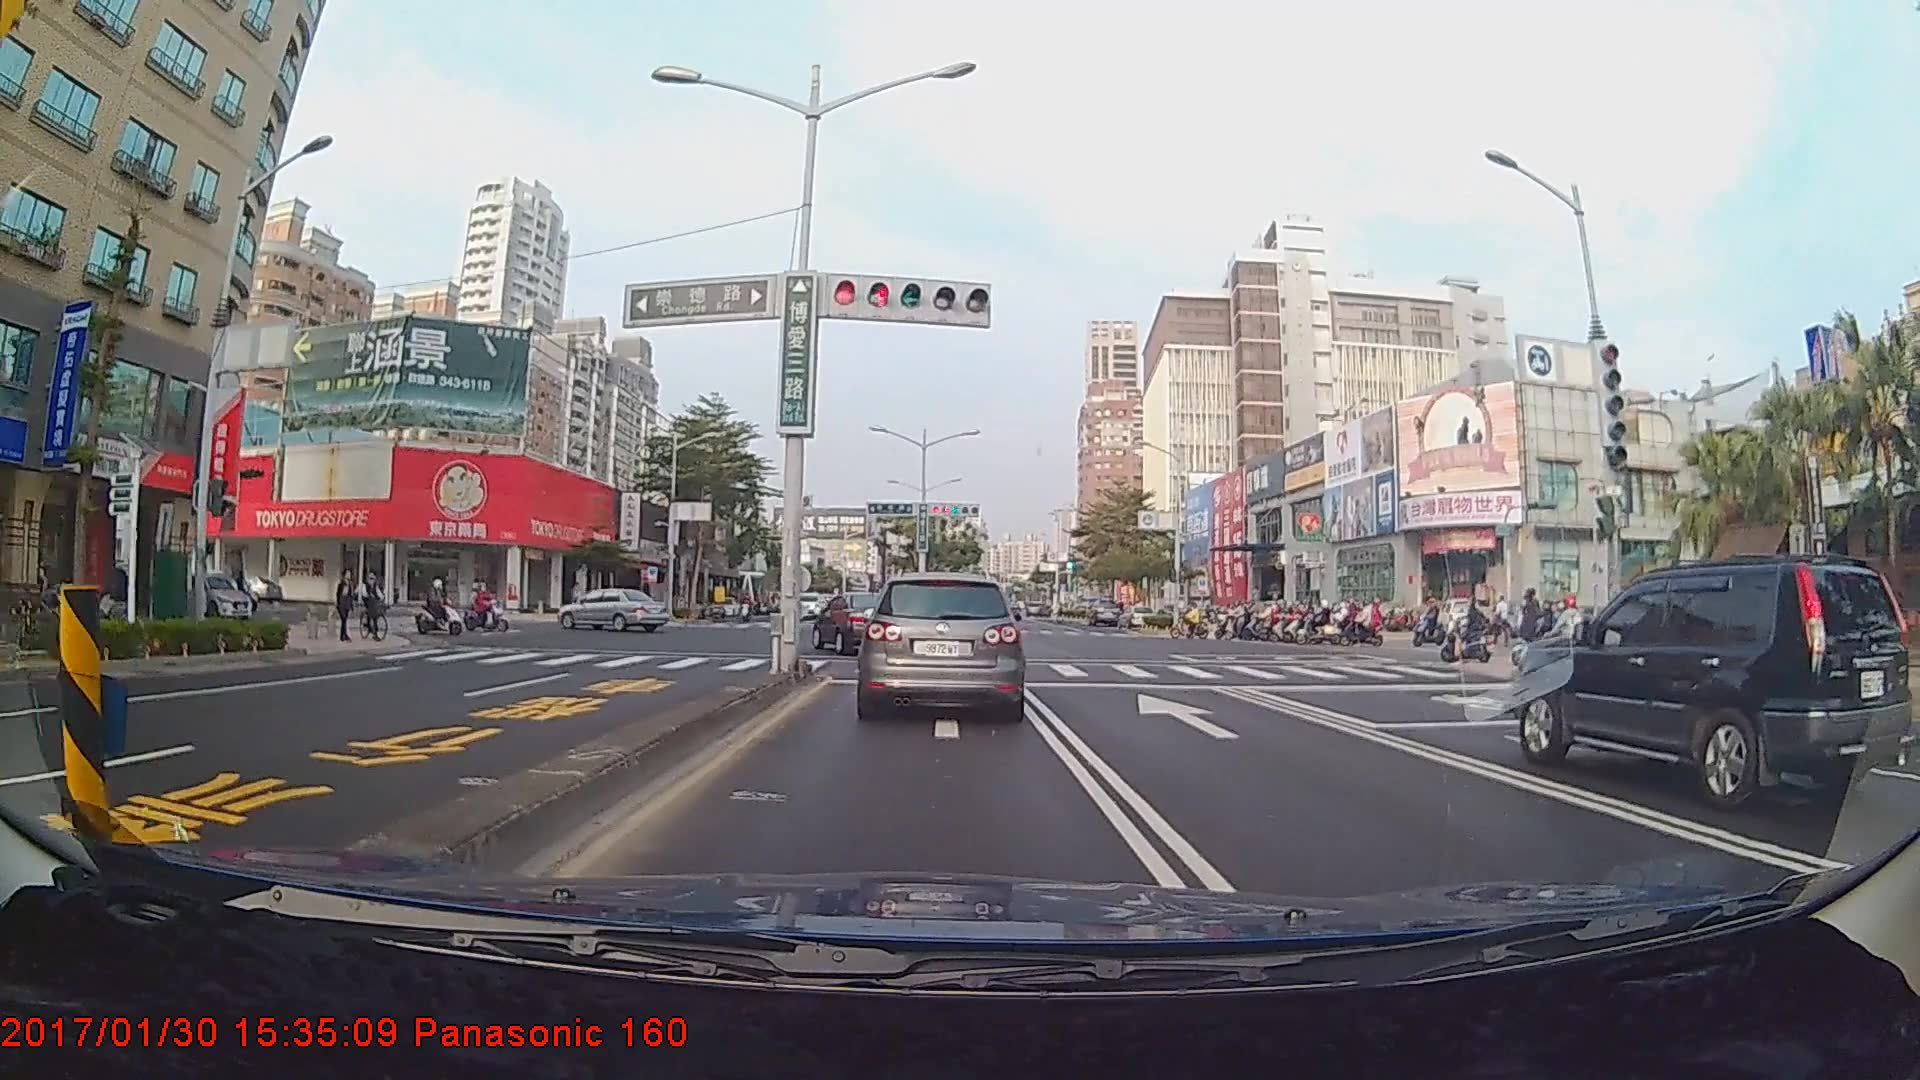pedestrian: (1516, 587, 1546, 673), (335, 565, 357, 647)
rider: (1442, 600, 1503, 664), (416, 577, 468, 640), (456, 577, 509, 633), (359, 566, 397, 641), (1345, 593, 1387, 648), (1308, 601, 1354, 645), (1174, 599, 1213, 639)
vehicle: (1508, 553, 1915, 811), (853, 565, 1029, 721), (811, 589, 909, 655), (557, 585, 669, 632), (1088, 598, 1121, 627)
